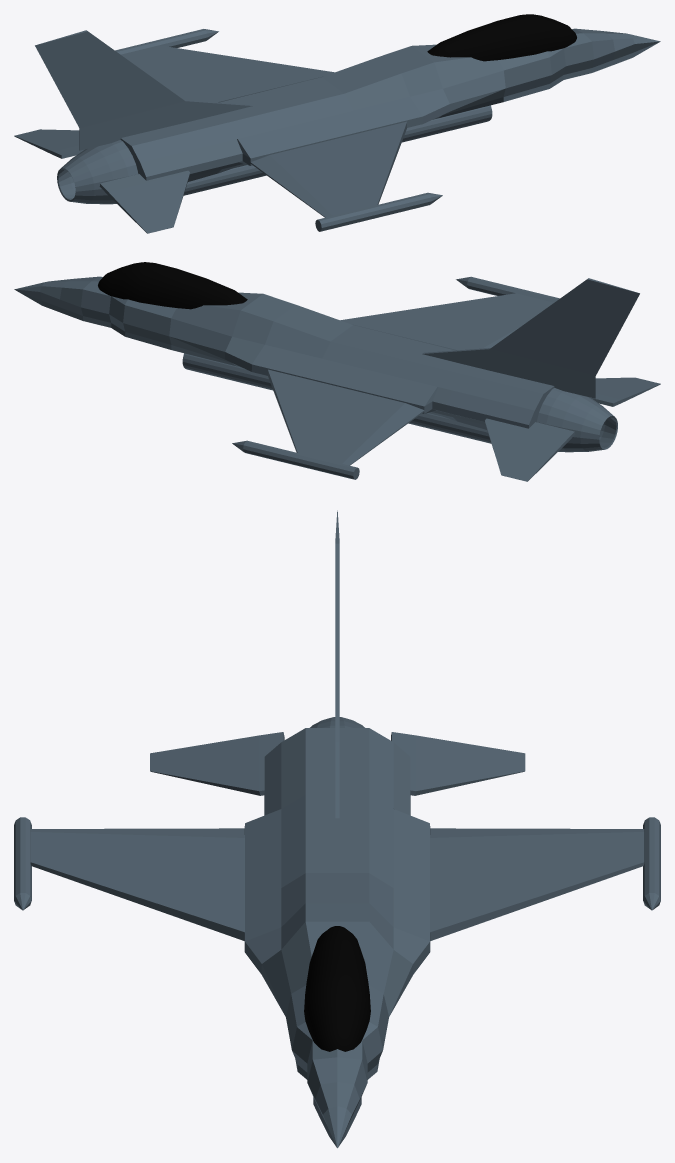
3 views of the same model, one above another, from view 1: azimuth 30°, elevation 25°; view 2: azimuth 150°, elevation 25°; view 3: azimuth 270°, elevation 25° (orthographic). The views are drawn at different scales.
Visible parts, largest first — view 1: Cube, Cube.001, Cube.002, Sphere.001, Cube.004, Sphere, Cylinder, Cube.003; view 2: Cube, Cube.001, Cube.002, Sphere.001, Cube.003, Sphere, Cylinder, Cube.004; view 3: Cube, Cube.001, Sphere.001, Cube.003, Cube.004, Cube.002.
Boxes of the visible parts, x1=… form: Cube: x1=120, y1=28, x2=660, y2=181; Cube.001: x1=115, y1=29, x2=442, y2=231; Cube.002: x1=35, y1=30, x2=252, y2=150; Sphere.001: x1=427, y1=14, x2=576, y2=61; Cube.004: x1=99, y1=170, x2=189, y2=233; Sphere: x1=57, y1=140, x2=138, y2=204; Cylinder: x1=183, y1=105, x2=492, y2=195; Cube.003: x1=14, y1=129, x2=84, y2=158; Cube: x1=14, y1=276, x2=554, y2=429; Cube.001: x1=232, y1=276, x2=559, y2=479; Cube.002: x1=422, y1=278, x2=639, y2=398; Sphere.001: x1=98, y1=262, x2=247, y2=309; Cube.003: x1=485, y1=418, x2=575, y2=481; Sphere: x1=536, y1=388, x2=617, y2=452; Cylinder: x1=182, y1=353, x2=491, y2=443; Cube.004: x1=590, y1=377, x2=660, y2=406; Cube: x1=244, y1=728, x2=430, y2=1148; Cube.001: x1=14, y1=817, x2=660, y2=940; Sphere.001: x1=304, y1=926, x2=370, y2=1051; Cube.003: x1=391, y1=732, x2=525, y2=795; Cube.004: x1=150, y1=732, x2=284, y2=795; Cube.002: x1=335, y1=510, x2=339, y2=818.
Size of the model in its own units: 19356 by 5401 by 12329.
